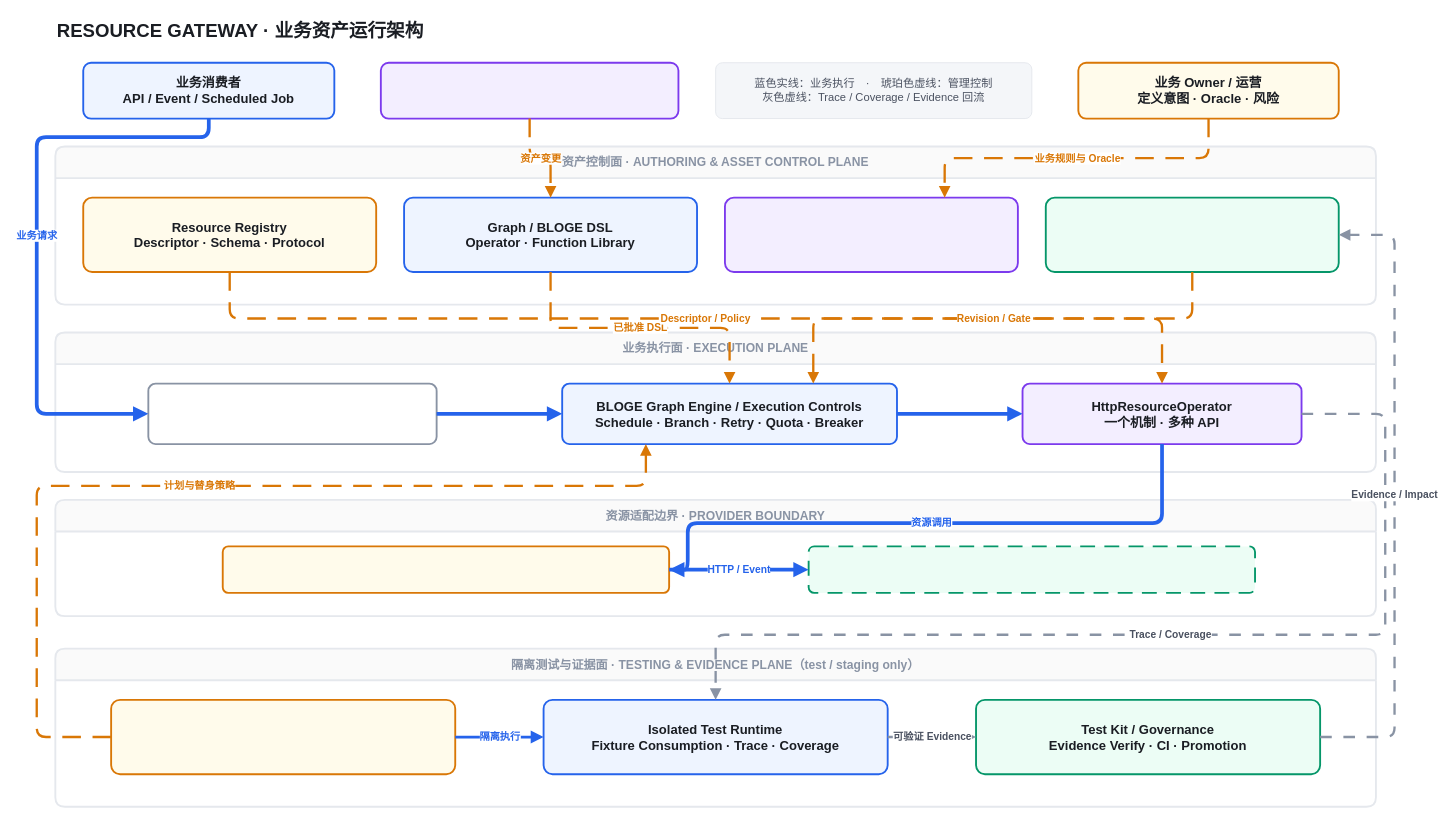
This 1454x823 diagram has some shape labels left out. The shapes that lost their labels are listed below. From the top down, each one's centre as x and y in pixels, then its label:
the point at 529,90: 编码智能体 / IDE / CLI 检索 · 生成 · 修改 · 验证
the point at 871,234: Contract / Scenario / FixtureBundle Oracle · Coverage · Promotion Rule
the point at 1191,234: Revision / Publication / Impact Fingerprint · Owner · Governance
the point at 292,413: Serving APIs Request · Tenant Context · SSE
the point at 445,569: Resolution / Mapping / Auth / Transport Validate · Extract · ResponseProtocol
the point at 1031,569: 外部系统 / API / 事件源 Provider 差异停留在资源边界
the point at 283,736: Testing Control Plane Purpose · Policy · EffectiveExecutionPlan
